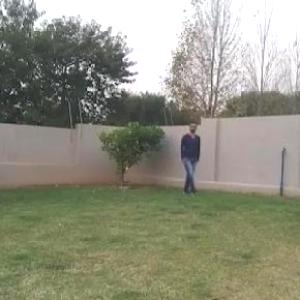follow: (182, 124, 200, 193)
